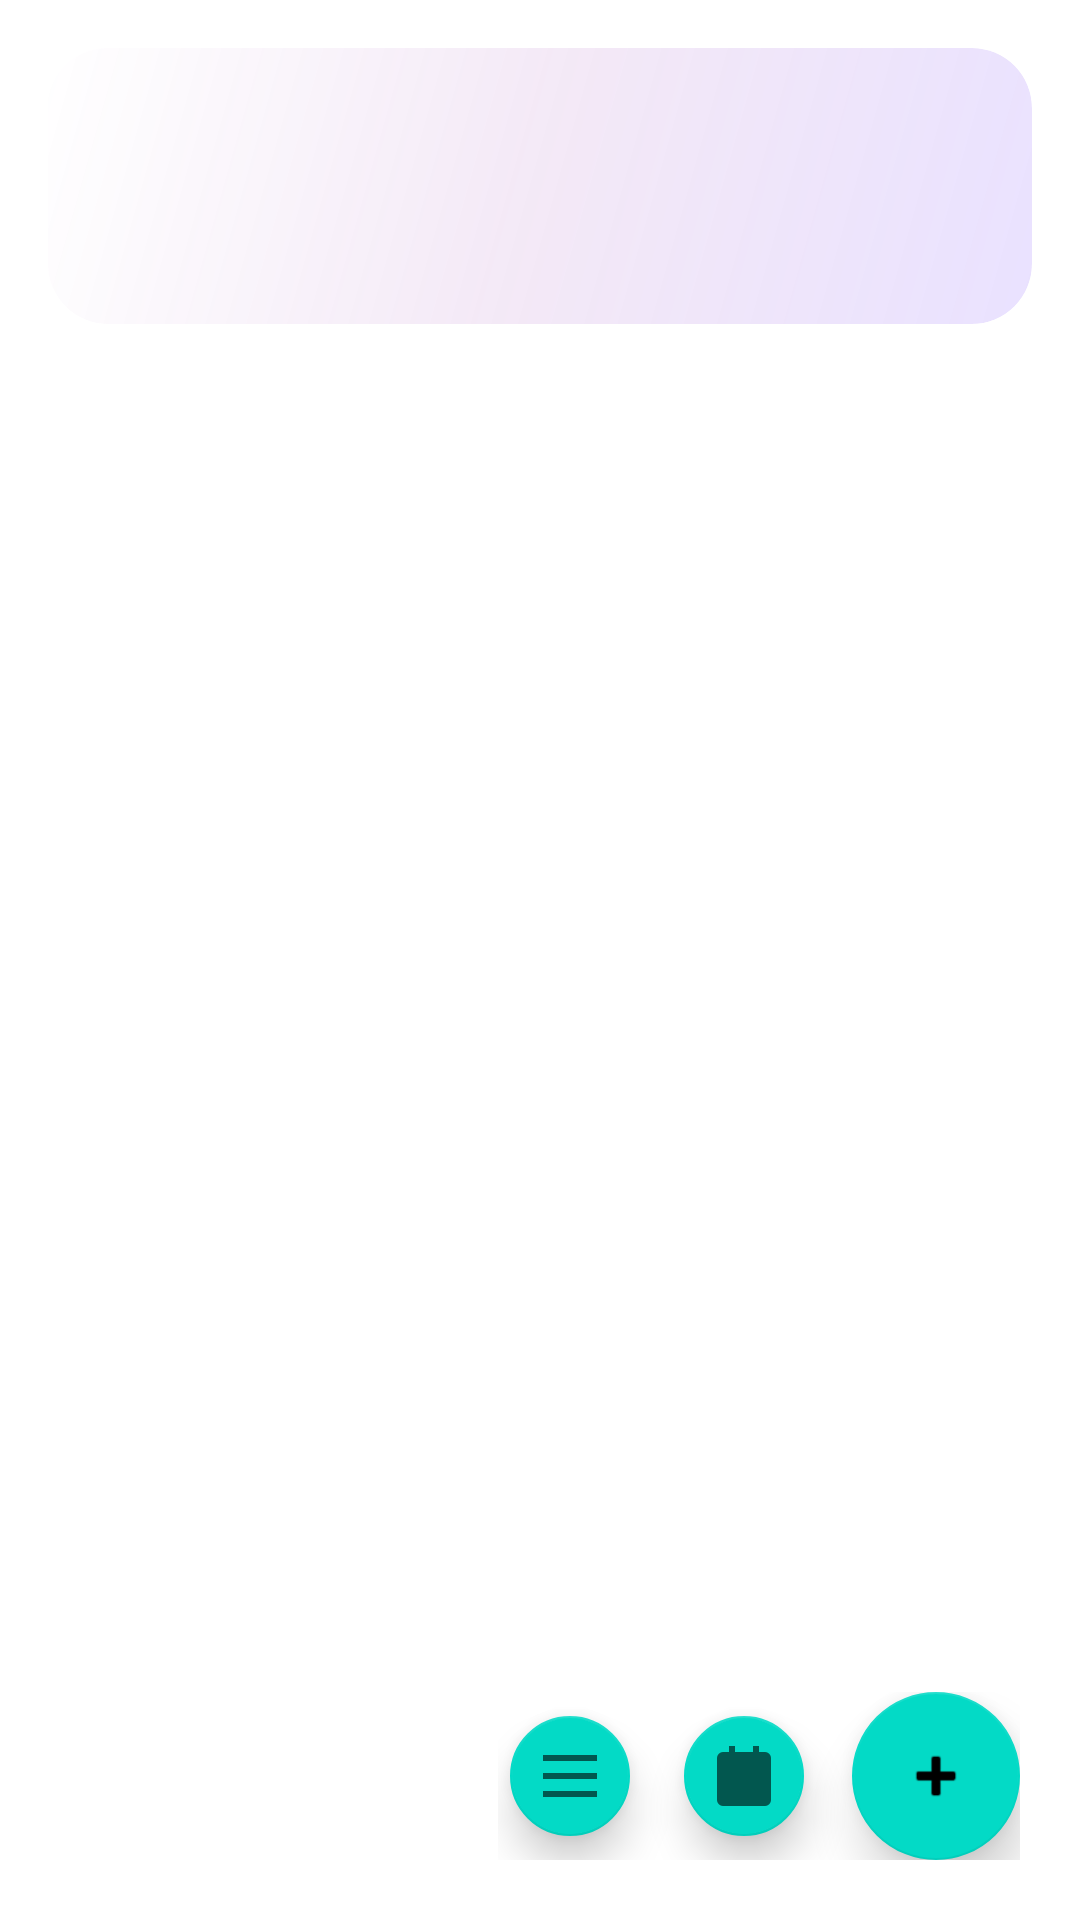

Locate icon controls on the screen. Image size 1080 × 1920, boxes as [x1,y1,x2,y2].
Add note: [852,1692,1020,1860]
All notes: [510,1716,630,1848]
Pick date: [684,1716,804,1848]
